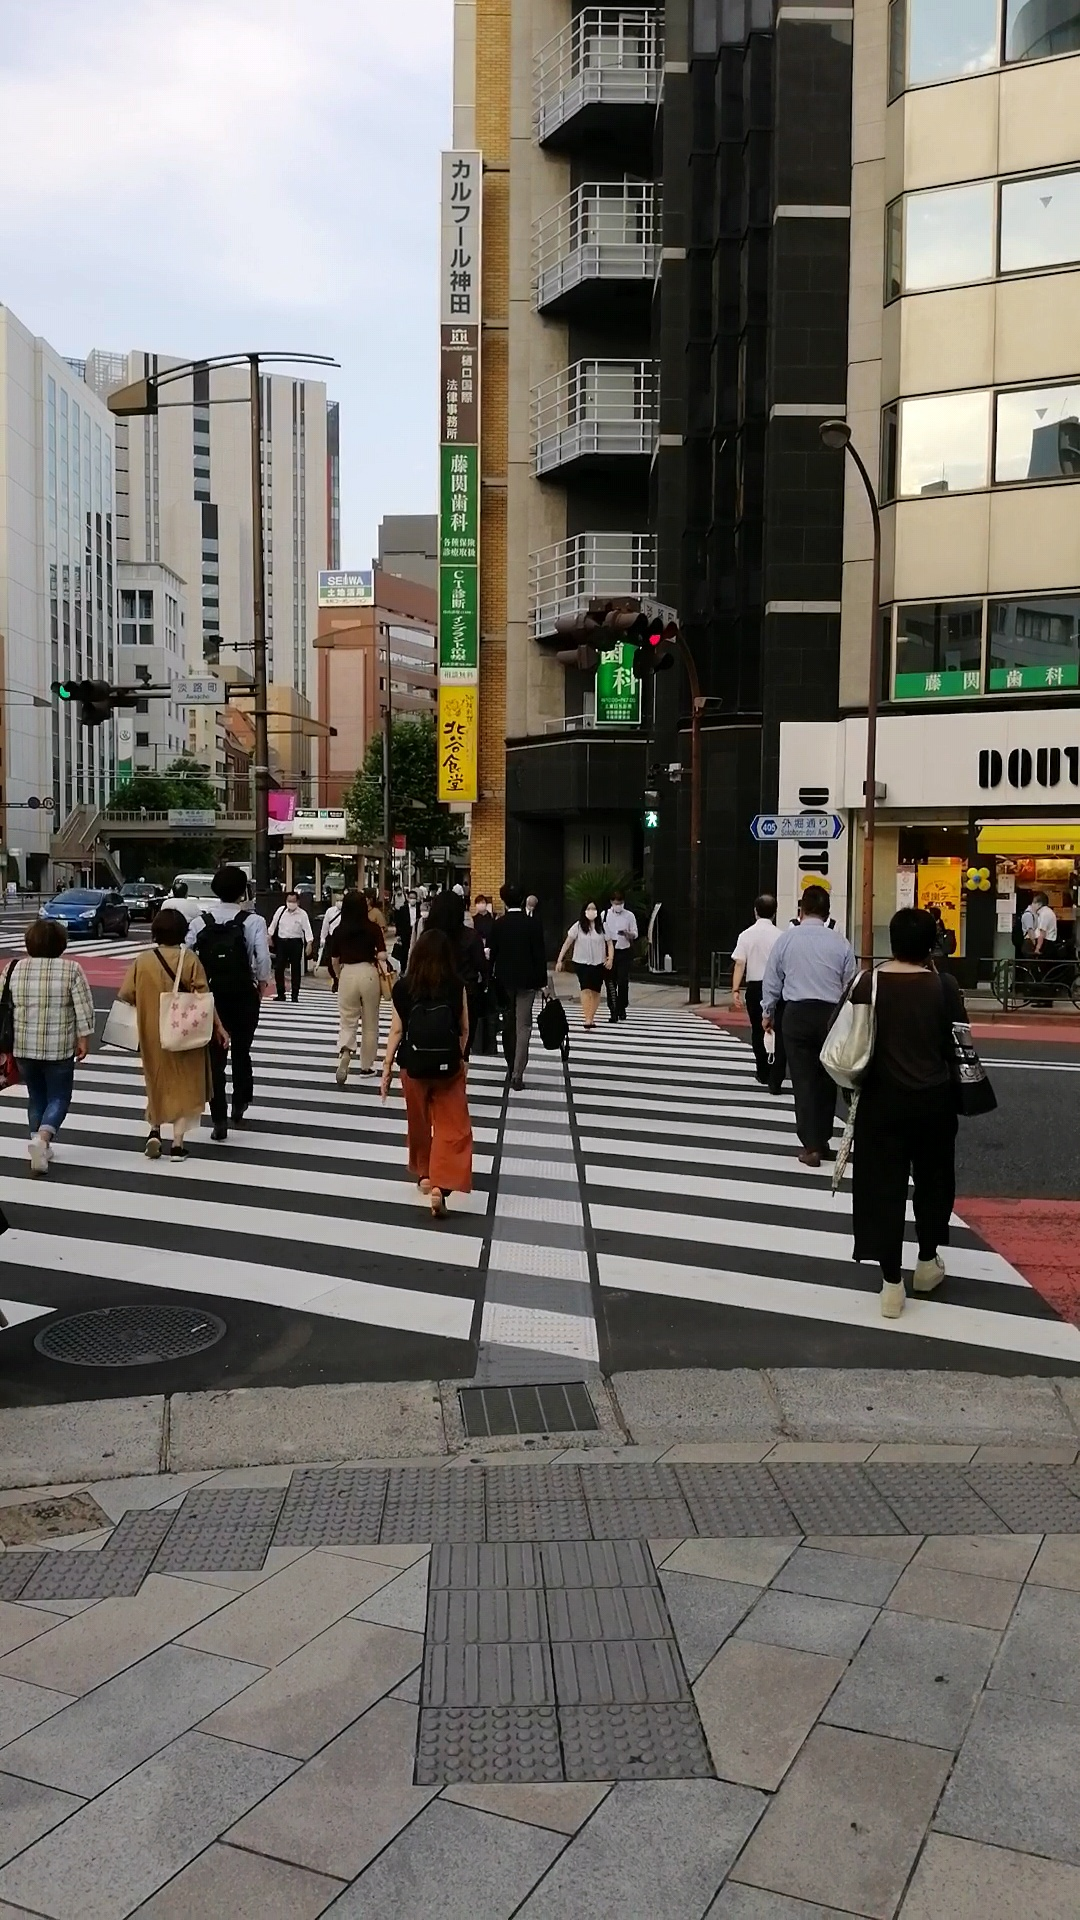green: (640, 789, 665, 833)
